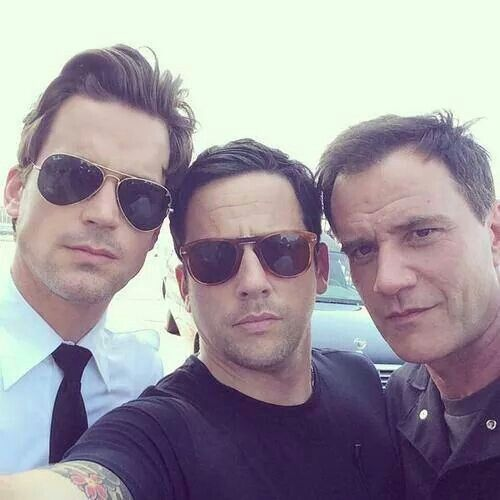sunglasses: (37, 148, 163, 230), (179, 233, 321, 283), (179, 239, 321, 283)
